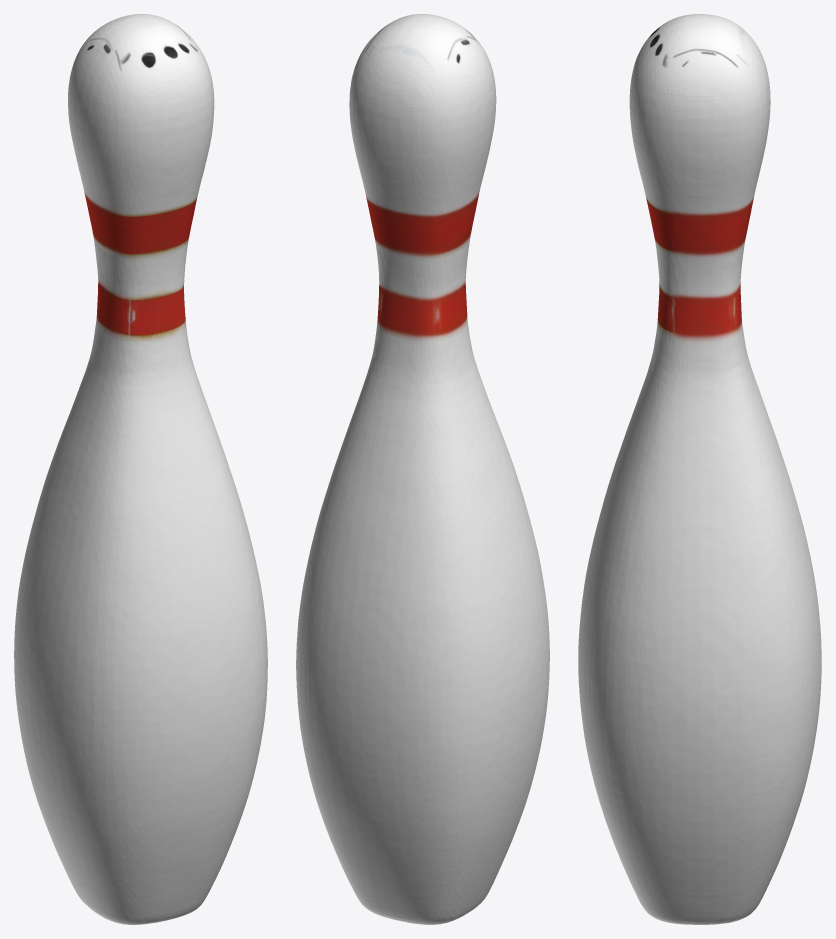
File: bowling_pin_0327122819_texture.fbx
The picture shows the model from 3 angles, left to right: view 1: azimuth 30°, elevation 25°; view 2: azimuth 150°, elevation 25°; view 3: azimuth 270°, elevation 25°; orthographic projection.
Visible parts, largest first — view 1: temp; view 2: temp; view 3: temp.
Part boxes in pixels (box(x1,y1,x2,y2)): temp: box(14, 14, 267, 924); temp: box(296, 14, 549, 924); temp: box(578, 14, 821, 924).
Size of the model in its own units: 50.02 by 200 by 50.02.
Materials: 1 (1 with a texture image).
